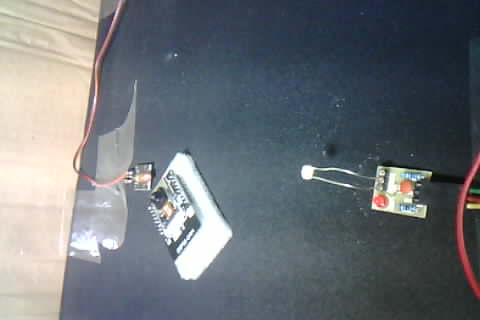esp32: (145, 148, 224, 270)
